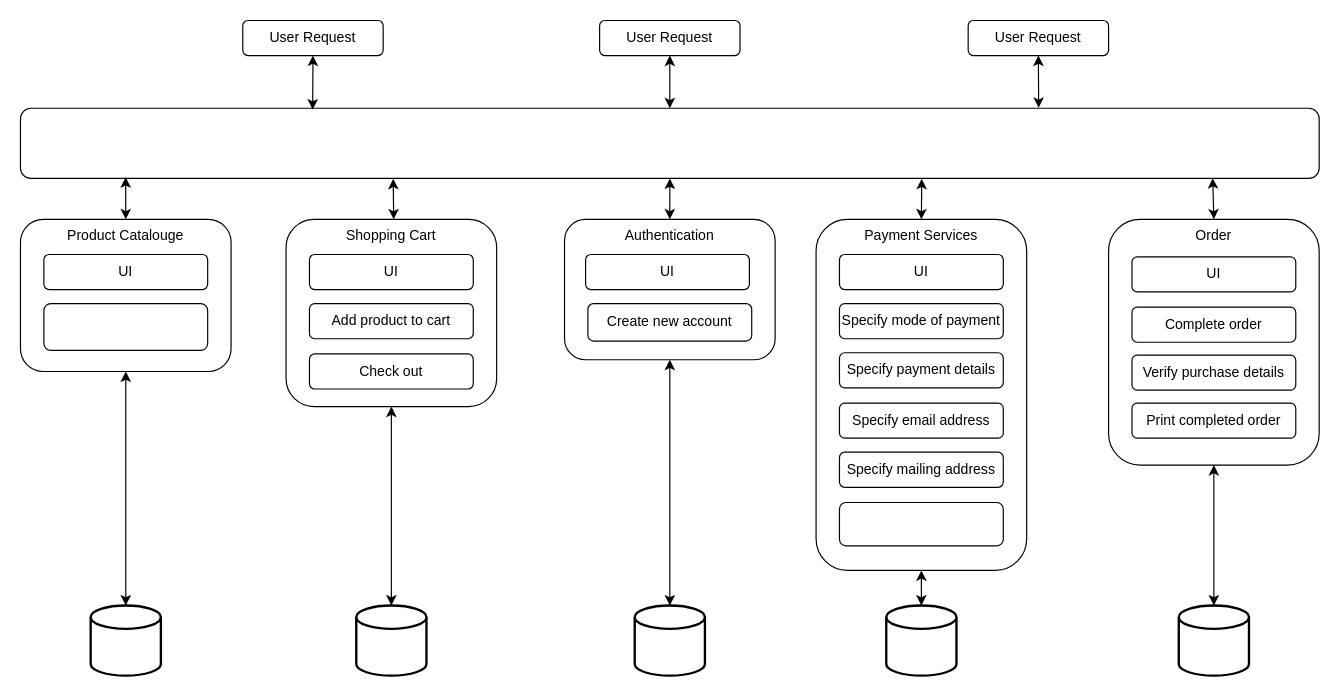
Some shapes in this 1340 by 697 pixel diagram are drawn without their labels. The shapes that lost their labels are listed below. From the top down, each one's centre as x and y in pixels, then its label:
At [669,142]: "API Layer".
At [125,326]: "Search online product catalogue".
At [920,523]: "Complete card transaction".
At [125,640]: "Product DB".
At [391,640]: "Shopping Cart DB".
At [669,640]: "Account DB".
At [921,640]: "Payment DB".
At [1213,640]: "Order DB".
